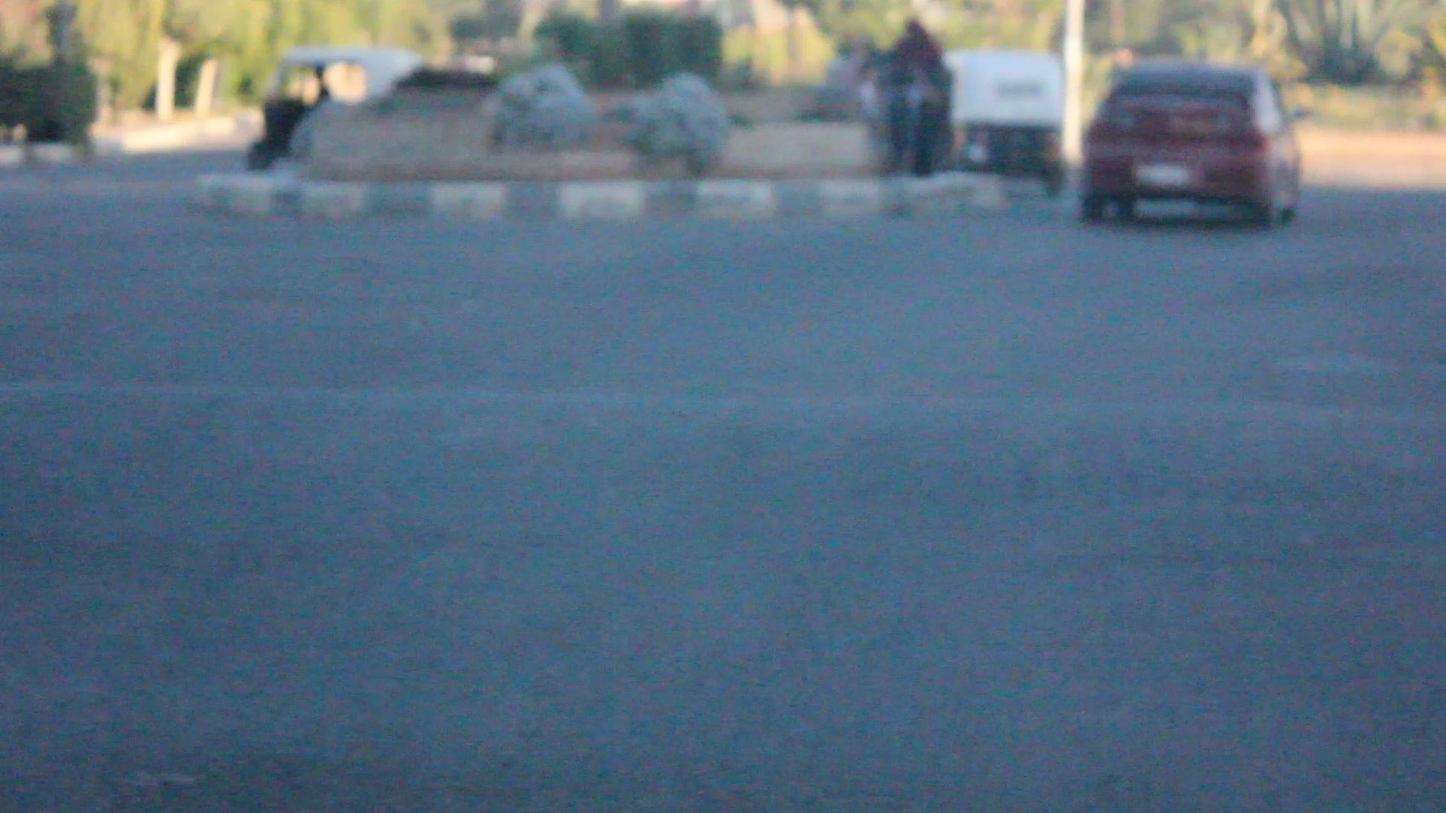Bump: (0, 380, 1446, 698)
